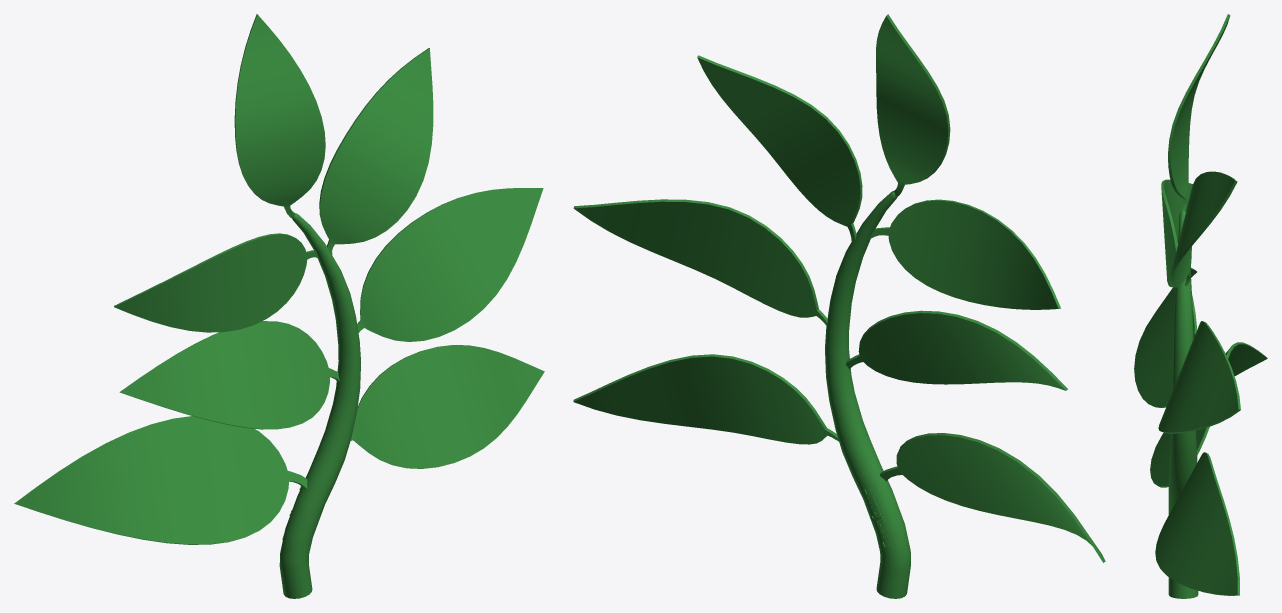
The model's file is herb.glb.
3 views of the same model, side by side, from view 1: azimuth 30°, elevation 25°; view 2: azimuth 150°, elevation 25°; view 3: azimuth 270°, elevation 25° (orthographic). The views are drawn at different scales.
Visible parts, largest first — view 1: Circle.2078; view 2: Circle.2078; view 3: Circle.2078.
Boxes of the visible parts, left/top/right/bottom form: Circle.2078: left=14, top=14, right=544, bottom=598; Circle.2078: left=573, top=14, right=1105, bottom=598; Circle.2078: left=1134, top=14, right=1267, bottom=598.
Bounding box in the file's own units: 2.13 × 2.24 × 0.4729.
1 material, 1 textured.
